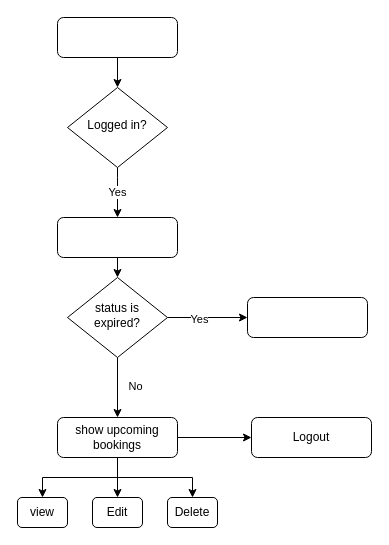
Image size: 389x545. Some labels were removed from this diagram. Each missing label, with the box of its shape:
currentUser Bookings: (56, 216, 178, 258)
Customer Login: (56, 16, 178, 58)
Move to booking history: (246, 296, 368, 338)
